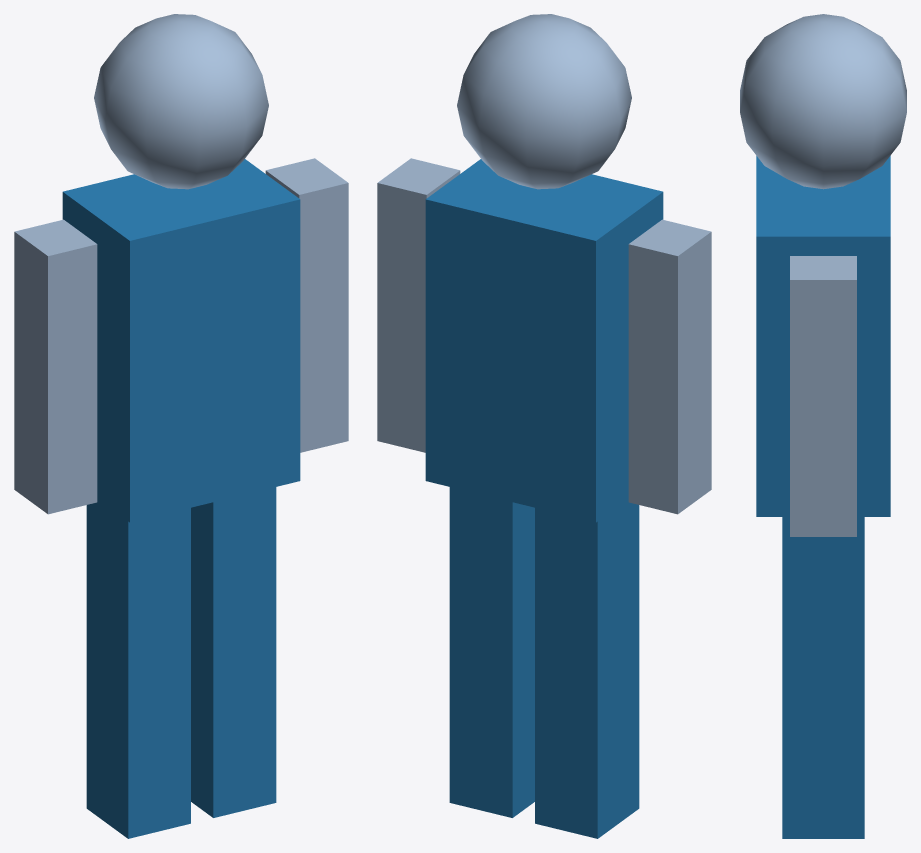
The model's file is corsair.glb.
3 views of the same model, side by side, from view 1: azimuth 30°, elevation 25°; view 2: azimuth 150°, elevation 25°; view 3: azimuth 270°, elevation 25° (orthographic).
Size of the model in its own units: 0.67 by 1.67 by 0.3234.
